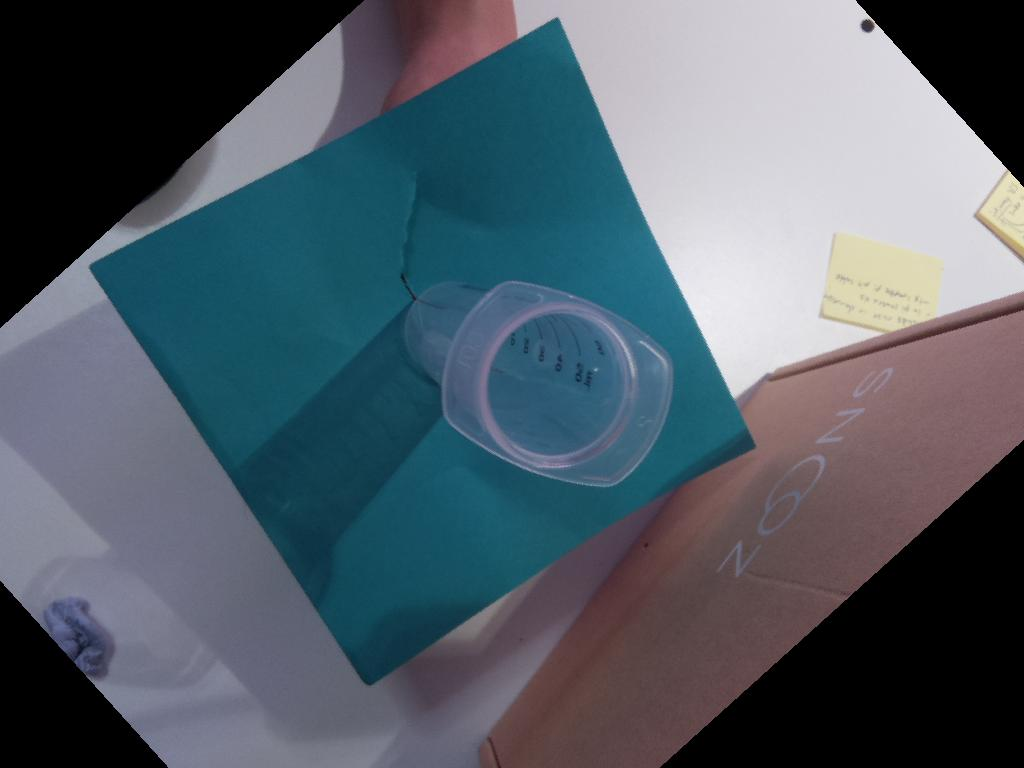clean: (439, 276, 678, 488)
